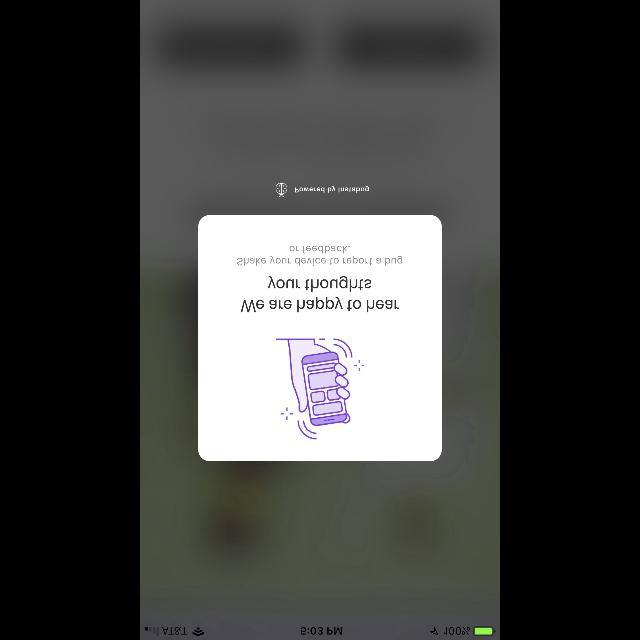image: (276, 338, 364, 439), (276, 182, 288, 198)
panel: (198, 215, 442, 461)
text: (241, 276, 399, 312), (238, 246, 402, 266), (295, 185, 369, 192)
uppertaskbar: (140, 626, 500, 640)
